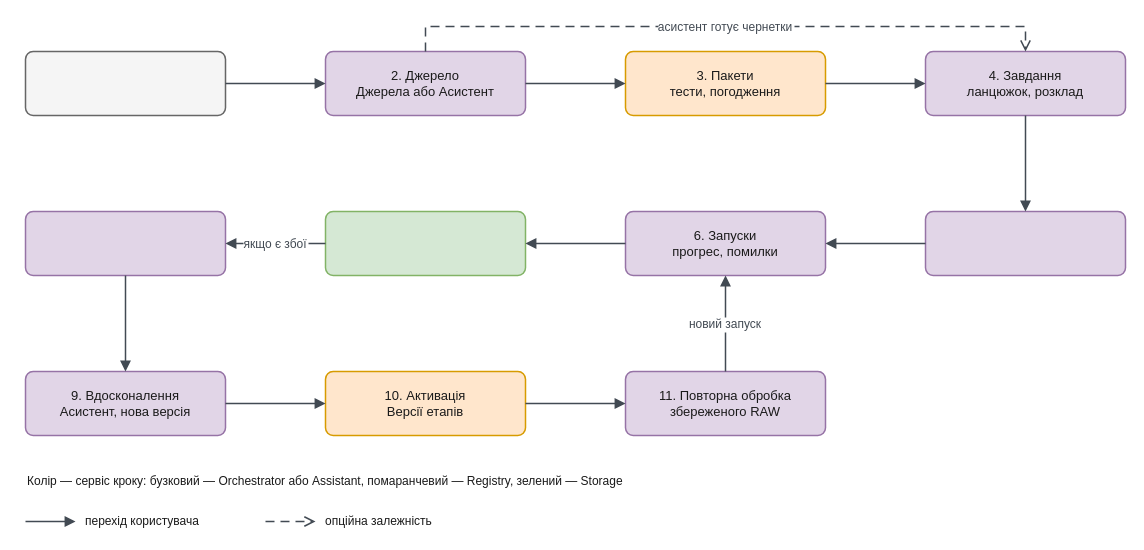
Image size: 1144x550. Some labels were removed from this diagram. The shapes that lost their labels are listed below. From the top down, each one's centre as x and y in pixels, then its label:
At (x=125, y=83): "1. Вхід сторінка входу".
At (x=125, y=243): "8. Проблеми групи, невідомі".
At (x=425, y=243): "7. Матеріали та Результати".
At (x=1025, y=243): "5. Запуск тестовий або робочий".
